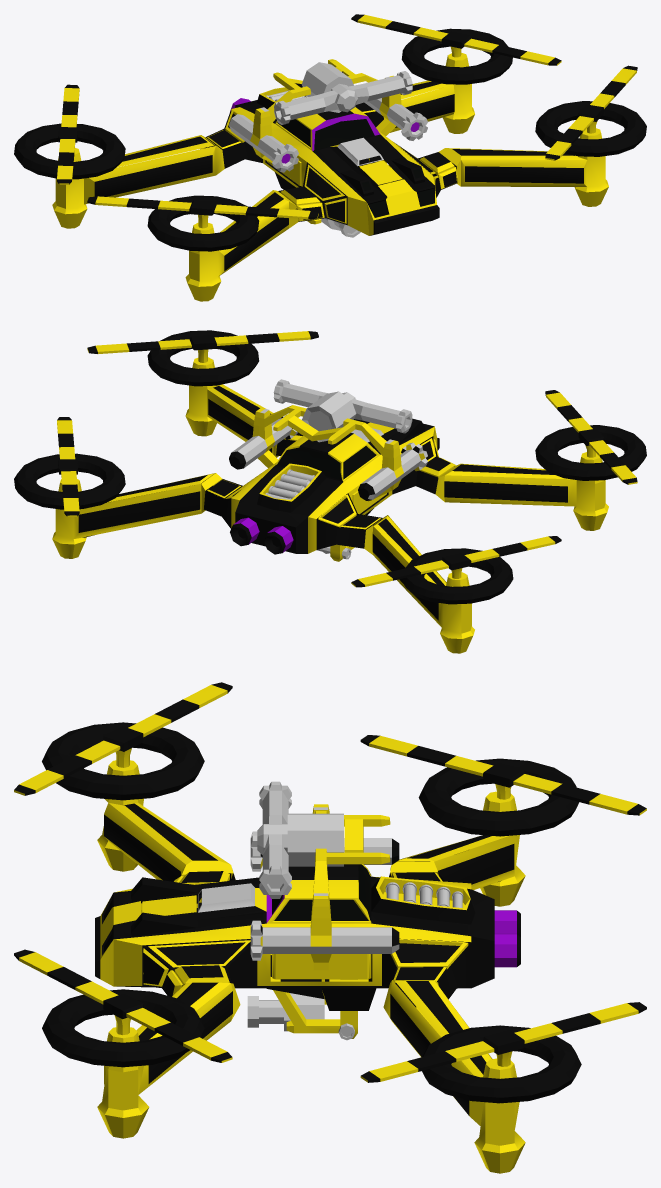
File: drone.obj
3 views of the same model, one above another, from view 1: azimuth 30°, elevation 25°; view 2: azimuth 150°, elevation 25°; view 3: azimuth 270°, elevation 25° (orthographic). The views are drawn at different scales.
Visible parts, largest first — view 1: drone_costum_Cube; view 2: drone_costum_Cube; view 3: drone_costum_Cube.
Boxes of the visible parts, x1=… form: drone_costum_Cube: x1=14, y1=14, x2=646, y2=301; drone_costum_Cube: x1=14, y1=330, x2=646, y2=653; drone_costum_Cube: x1=14, y1=682, x2=646, y2=1173.
Size of the model in its own units: 12.4 by 3.35 by 8.76.
